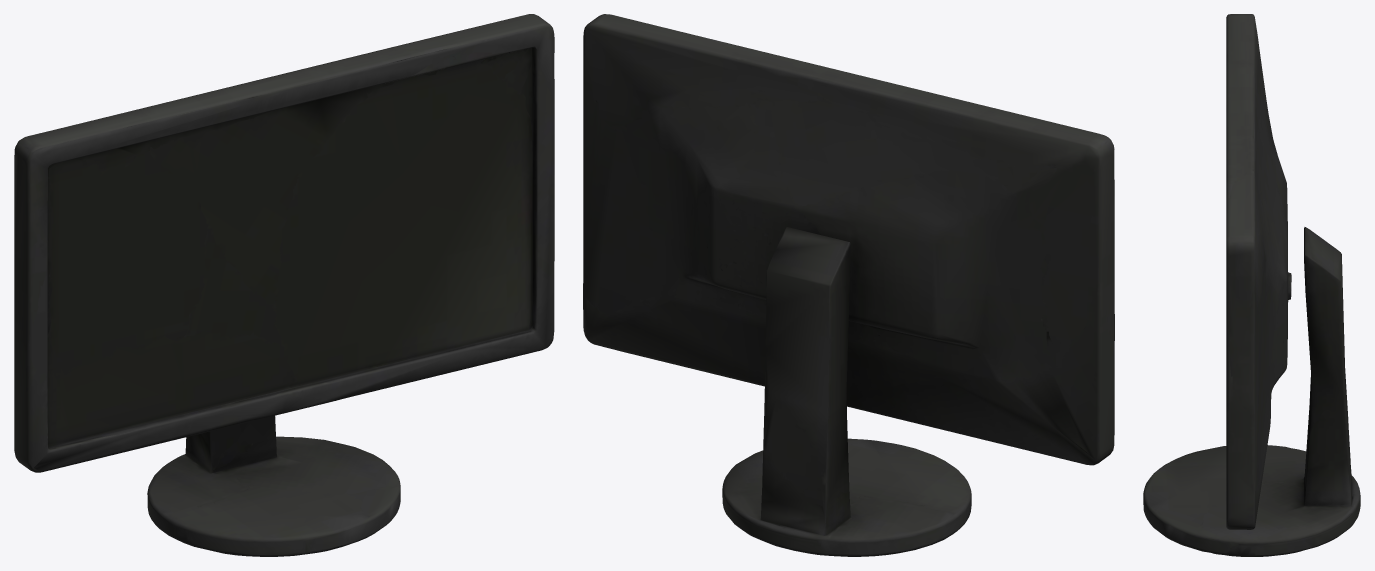
File: monitor-lite.glb
3 renders of one model, left to right at view 1: azimuth 30°, elevation 25°; view 2: azimuth 150°, elevation 25°; view 3: azimuth 270°, elevation 25°, orthographic. The views are drawn at different scales.
Parts seen in each view (by area): view 1: node_0; view 2: node_0; view 3: node_0.
Boxes of the visible parts, left/top/right/bottom form: node_0: left=14, top=14, right=554, bottom=556; node_0: left=583, top=14, right=1114, bottom=556; node_0: left=1143, top=14, right=1360, bottom=556.
Bounding box in the file's own units: 0.96 × 0.7489 × 0.381.
1 material, 1 textured.
